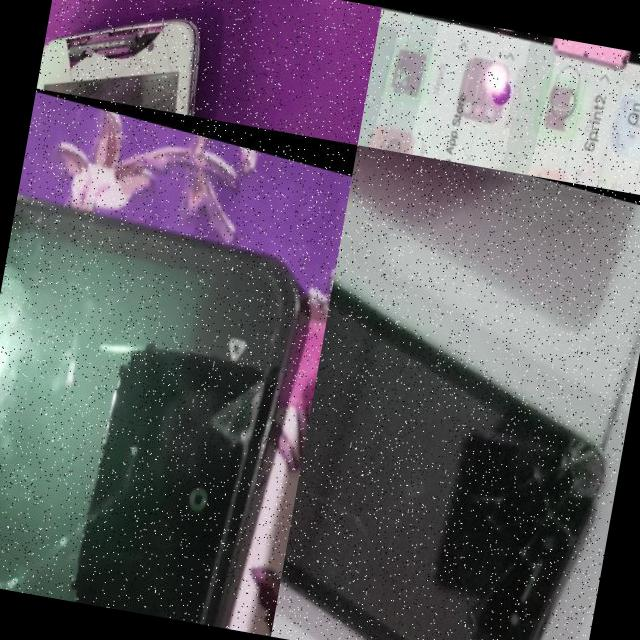screen crack: (0, 226, 294, 629), (36, 0, 220, 116), (532, 392, 630, 522), (288, 454, 397, 550), (446, 625, 544, 640)
